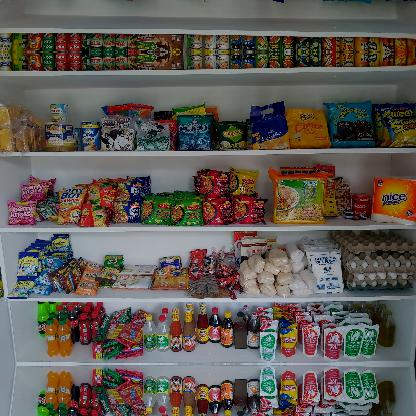Lady-s-Choice: (44, 121, 78, 151)
